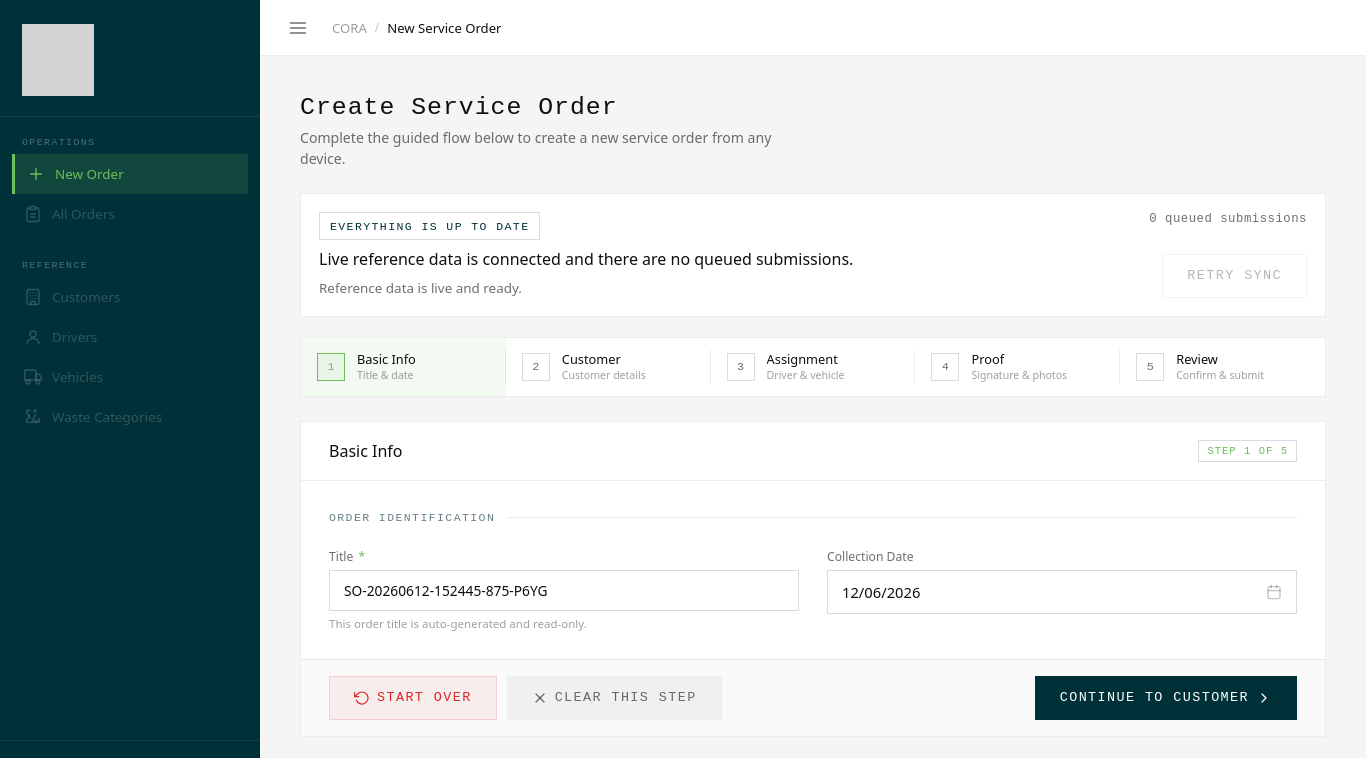
Test: App › supports keyboard selection in customer hierarchy autocomplete
Click the button "Continue to Customer": (1166, 698) [1035,676,1297,720]
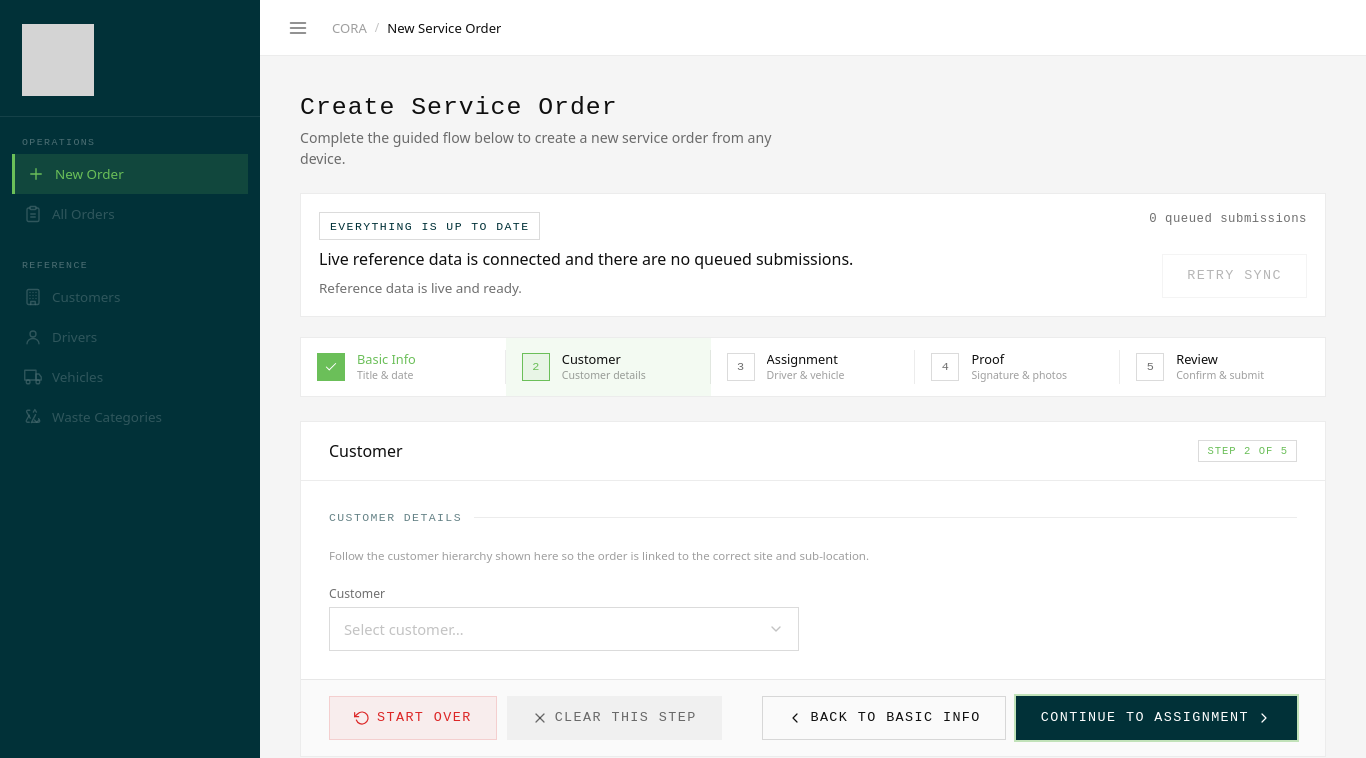
Click the dropdown labelled "customer": (404, 629) [329,607,799,651]
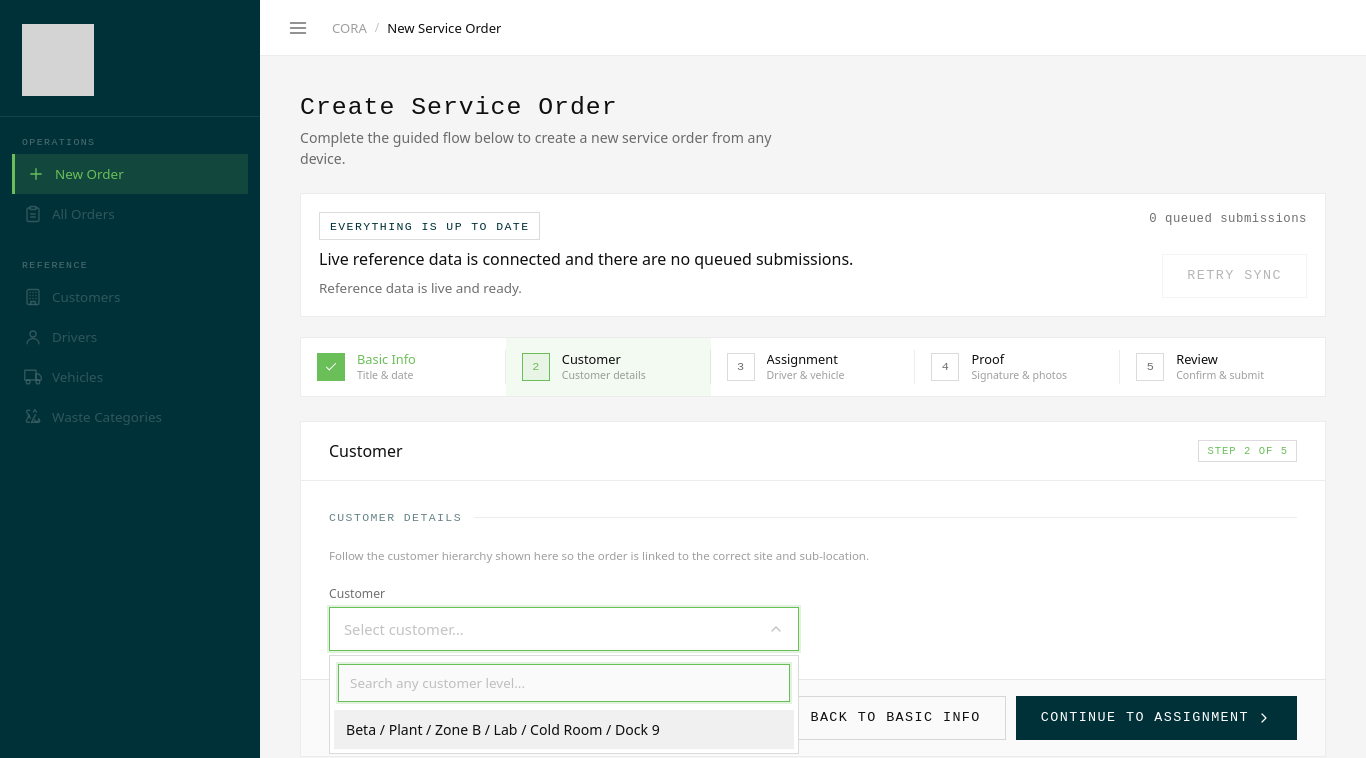
In the dropdown labelled "Search any customer level...": (564, 683) [338,664,790,702], type "cold"
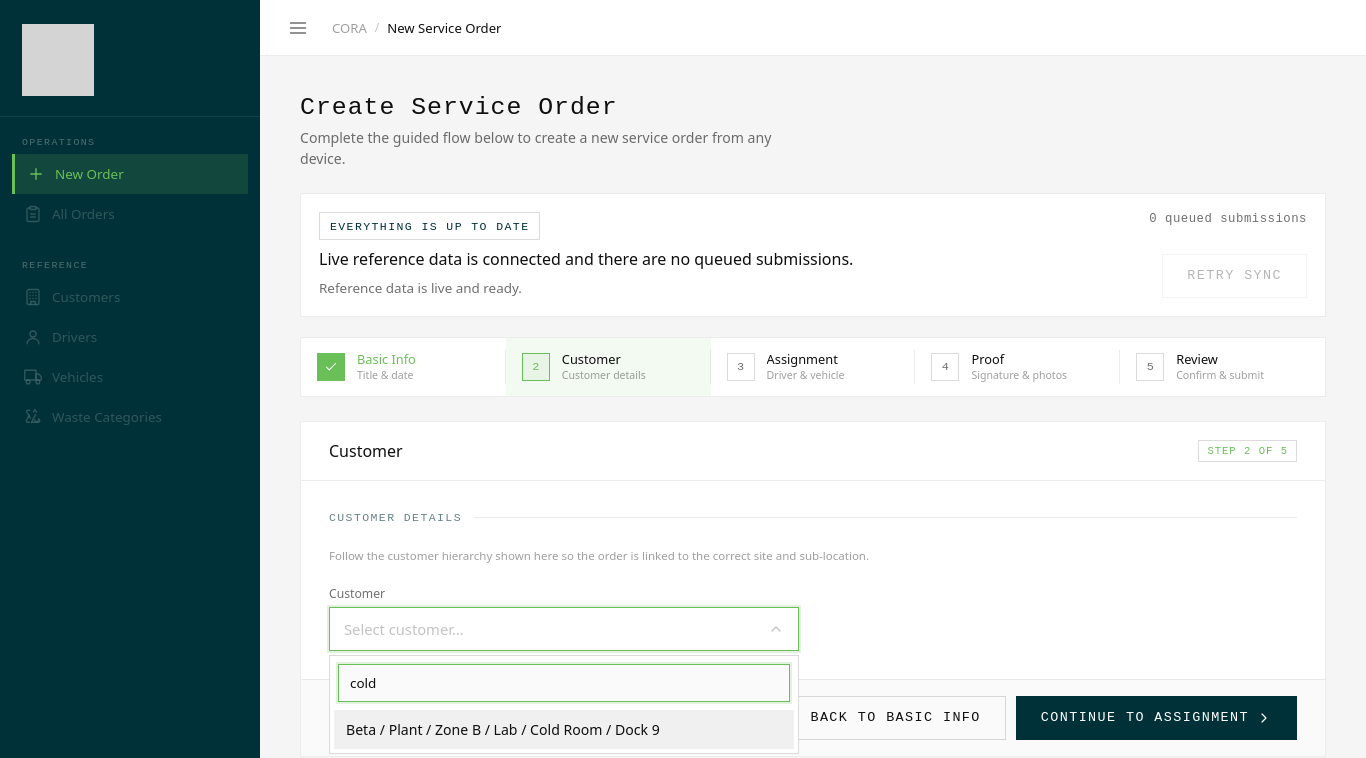
Press Arrowdown Enter
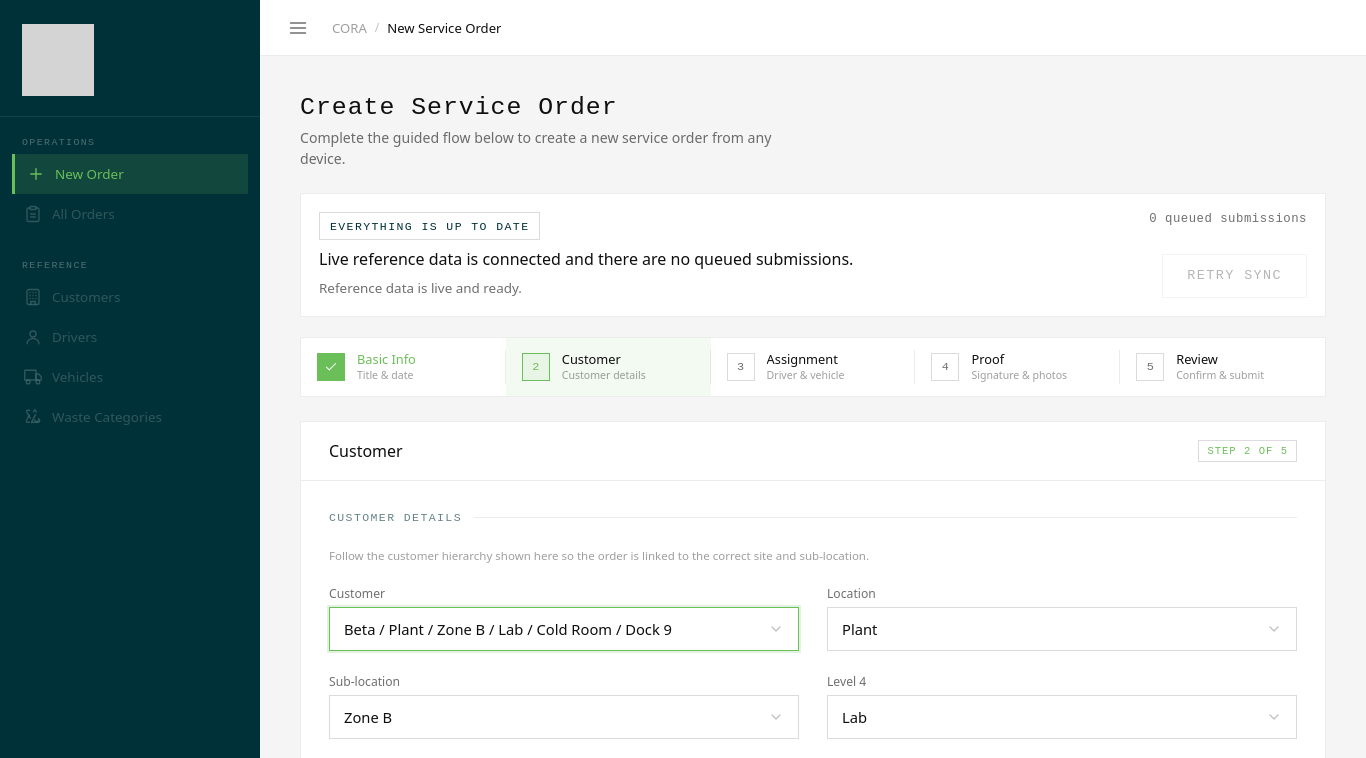
expect the dropdown named "Customer" reads "Beta / Plant / Zone B / Lab / Cold Room / Dock 9": met, box [329,607,799,651]
